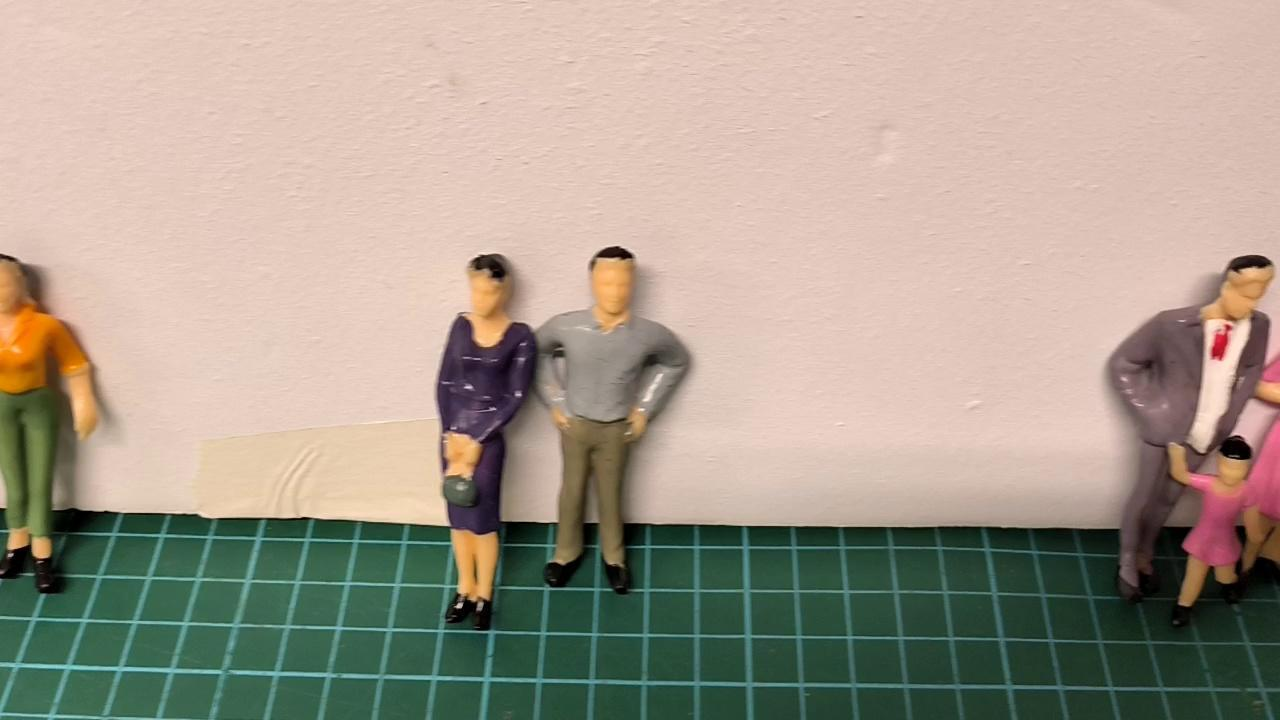human: (1107, 256, 1274, 603), (536, 245, 694, 599), (424, 251, 538, 644), (0, 249, 107, 594), (1166, 434, 1253, 638), (1249, 273, 1280, 615)
